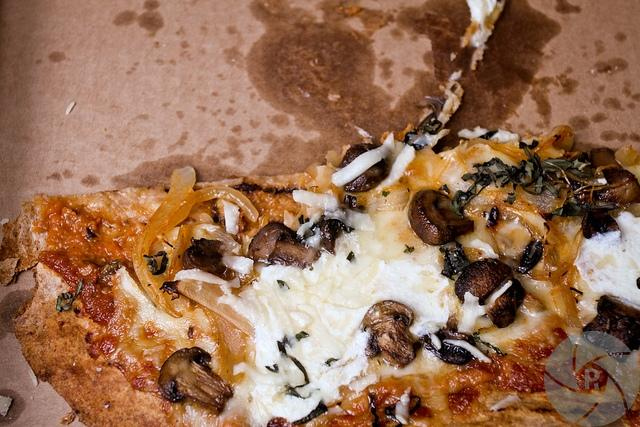mushroom: (158, 346, 234, 416), (582, 298, 640, 362), (408, 190, 474, 246), (248, 222, 323, 270), (454, 258, 512, 302), (182, 237, 238, 280), (338, 144, 388, 192), (364, 318, 416, 364), (418, 327, 478, 366), (484, 278, 526, 328), (595, 169, 639, 206), (320, 218, 354, 255), (590, 147, 622, 169)
onion: (160, 279, 256, 387), (132, 166, 197, 310), (158, 186, 260, 235), (526, 208, 586, 280), (398, 146, 456, 192), (115, 266, 156, 308), (466, 138, 530, 164), (221, 200, 240, 235)
